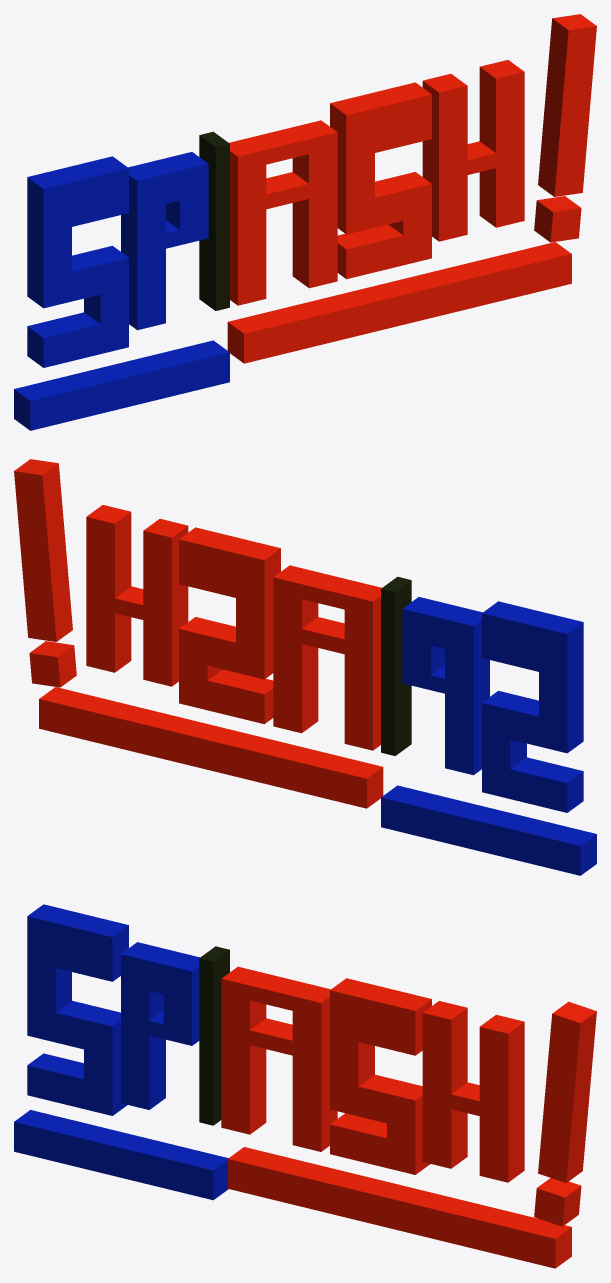
Rendered from splash.fbx.
The picture shows the model from 3 angles, top to bottom: view 1: azimuth 30°, elevation 25°; view 2: azimuth 150°, elevation 25°; view 3: azimuth 330°, elevation 25°; orthographic projection.
Visible parts, largest first — view 1: words, bar; view 2: words, bar; view 3: words, bar.
Part boxes in pixels (x1,y1,x2,y2): words: [27, 14, 596, 367]; bar: [14, 242, 571, 430]; words: [14, 459, 583, 812]; bar: [39, 687, 596, 875]; words: [27, 904, 596, 1226]; bar: [14, 1110, 571, 1268].
Bounding box in the file's own units: 589 × 268 × 29.62.
